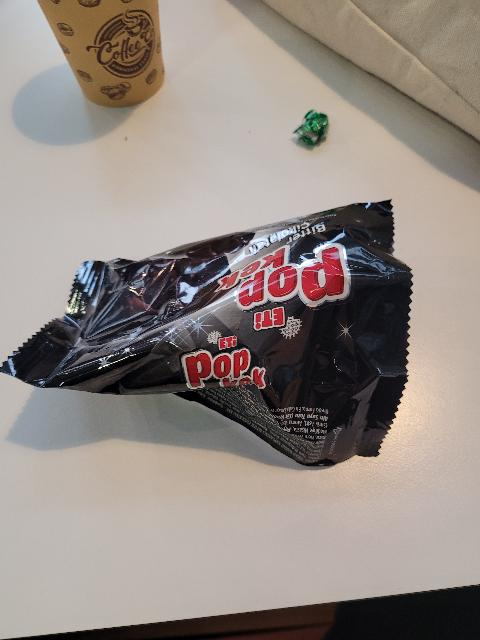Kagit: (35, 0, 175, 118), (284, 99, 340, 158)
Plastik: (0, 198, 433, 481)
